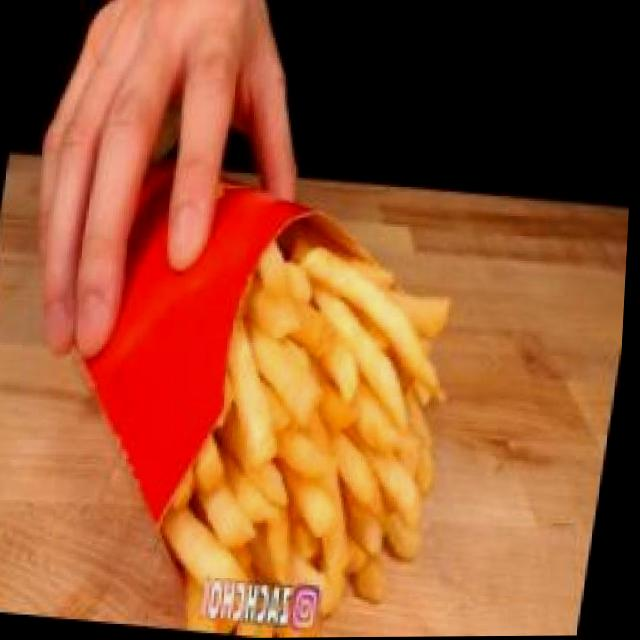french fries: (114, 192, 492, 639)
